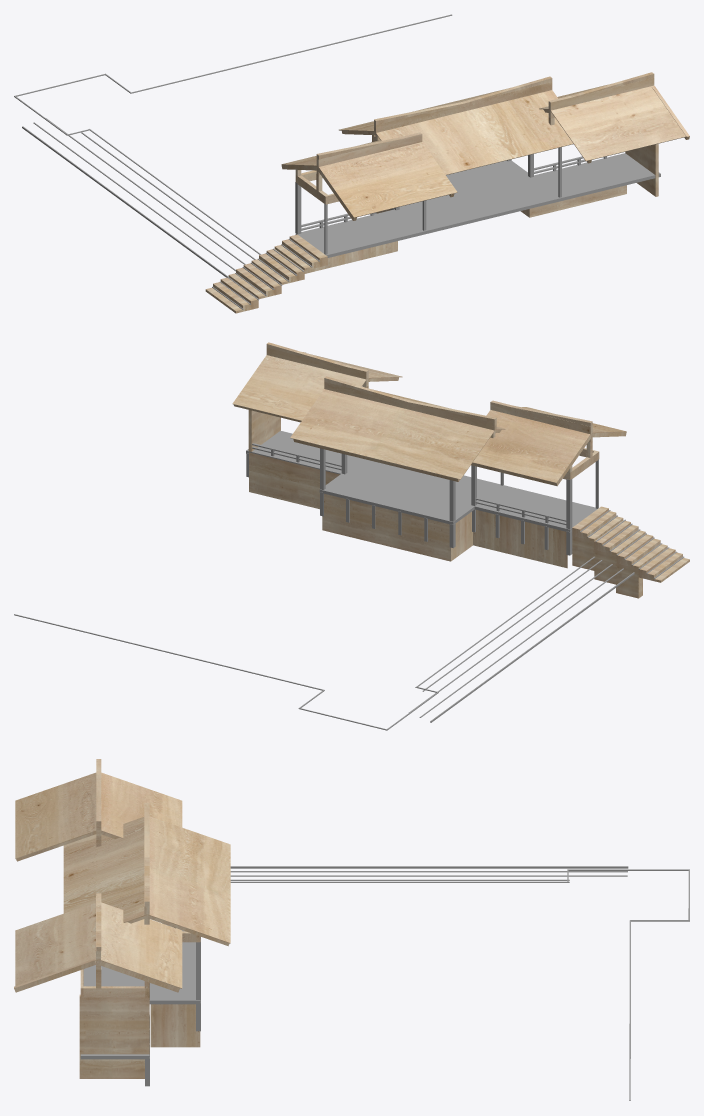
File: WoodStage.fbx
3 renders of one model, top to bottom at view 1: azimuth 30°, elevation 25°; view 2: azimuth 150°, elevation 25°; view 3: azimuth 270°, elevation 25°, orthographic. The views are drawn at different scales.
Visible parts, largest first — view 1: WoodStage; view 2: WoodStage; view 3: WoodStage.
Boxes of the visible parts, left/top/right/bottom form: WoodStage: left=14, top=14, right=689, bottom=313; WoodStage: left=14, top=342, right=689, bottom=730; WoodStage: left=14, top=759, right=689, bottom=1100.
Bounding box in the file's own units: 59.82 × 18.85 × 66.68.
Materials: 2 (1 with a texture image).
